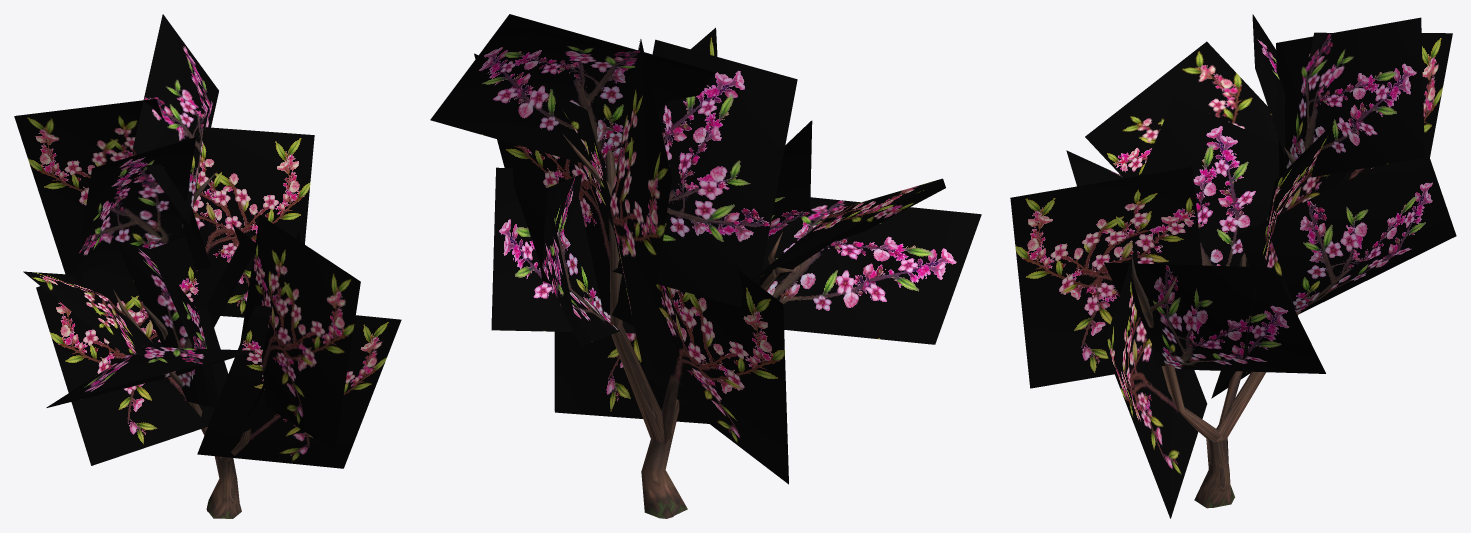
The model's file is furni_0200934.FBX.
3 renders of one model, left to right at view 1: azimuth 30°, elevation 25°; view 2: azimuth 150°, elevation 25°; view 3: azimuth 270°, elevation 25°, orthographic. The views are drawn at different scales.
Parts seen in each view (by area): view 1: furni_0200934; view 2: furni_0200934; view 3: furni_0200934.
Boxes of the visible parts, x1,y1,x2,y2 form: furni_0200934: (14,14,401,518); furni_0200934: (430,14,981,518); furni_0200934: (1010,14,1456,518).
Size of the model in its own units: 334 by 407 by 331.
Materials: 1 (1 with a texture image).
